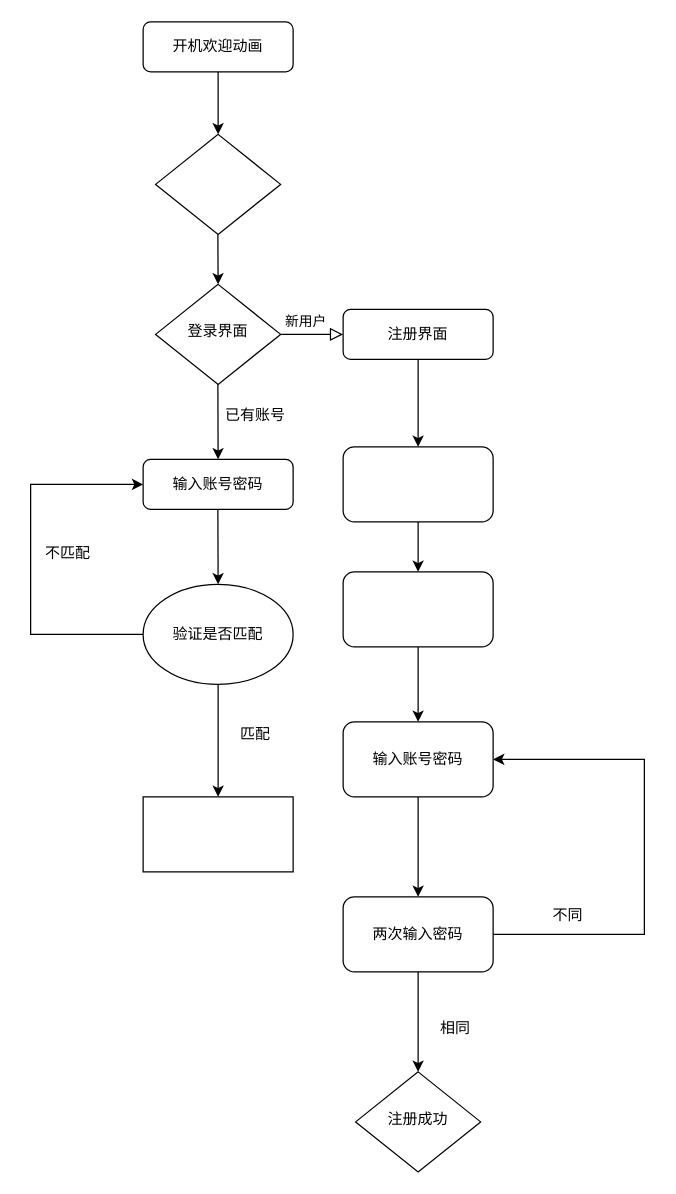
The diagram is 676 pixels wide and 1194 high, and some of its shapes have lost their labels. Here are the shapes that lost their labels. From the top down, the centre of each, then its label:
the point at 217,183: 选择用户身份
the point at 417,484: 创建账号
the point at 417,609: 选择所属用户群体
the point at 217,834: 登录成功
